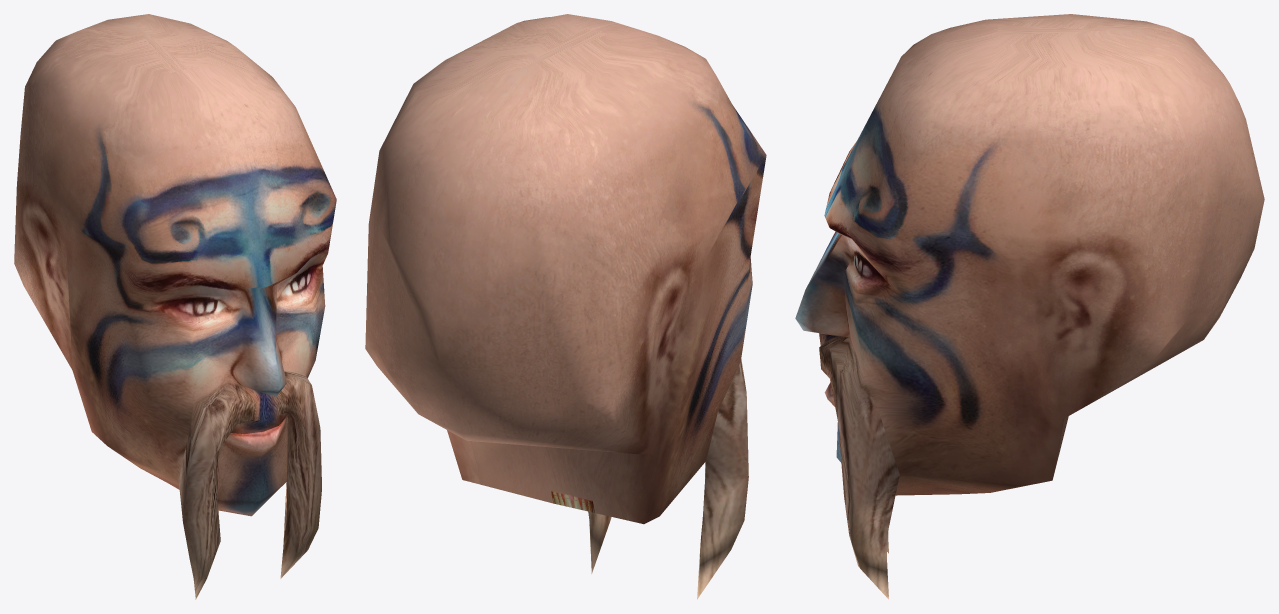
The model's file is b_n_nord_m_head_03.glb.
The picture shows the model from 3 angles, left to right: view 1: azimuth 30°, elevation 25°; view 2: azimuth 150°, elevation 25°; view 3: azimuth 270°, elevation 25°; orthographic projection. The views are drawn at different scales.
Parts seen in each view (by area): view 1: Tri B_N_Nord_M_Head_03; view 2: Tri B_N_Nord_M_Head_03; view 3: Tri B_N_Nord_M_Head_03.
Boxes of the visible parts, x1,y1,x2,y2 form: Tri B_N_Nord_M_Head_03: [14, 14, 336, 599]; Tri B_N_Nord_M_Head_03: [365, 14, 766, 599]; Tri B_N_Nord_M_Head_03: [795, 14, 1264, 599].
Size of the model in its own units: 0.0957 by 0.1944 by 0.1513.
1 material, 1 textured.
